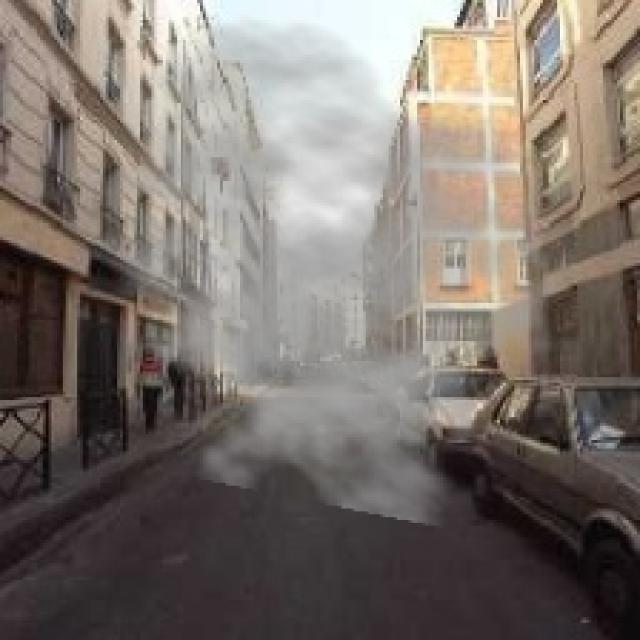Smoke: (60, 14, 580, 529)
